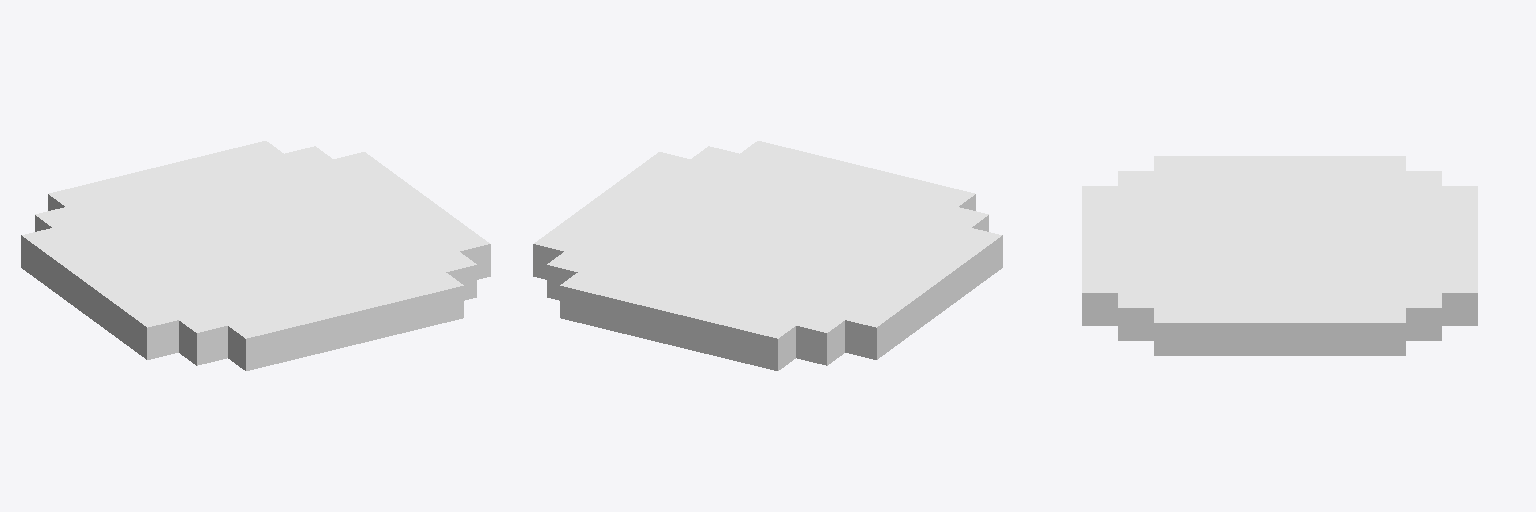
Rendered from uncooked_meat3.obj.
3 renders of one model, left to right at view 1: azimuth 30°, elevation 25°; view 2: azimuth 150°, elevation 25°; view 3: azimuth 270°, elevation 25°, orthographic.
Parts seen in each view (by area): view 1: object 1; view 2: object 1; view 3: object 1.
Boxes of the visible parts, x1=… form: object 1: x1=21, y1=141, x2=490, y2=370; object 1: x1=533, y1=141, x2=1002, y2=370; object 1: x1=1082, y1=156, x2=1477, y2=355.
Size of the model in its own units: 1.1 by 0.1 by 1.1.